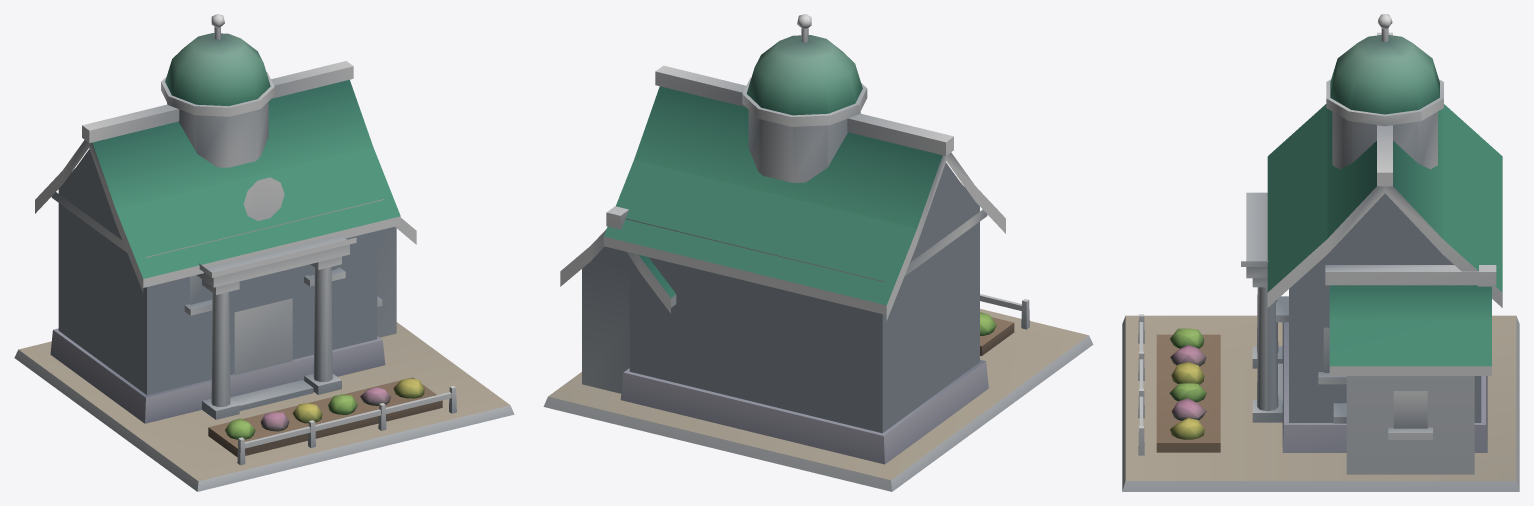
Rendered from hospital_t5.glb.
3 renders of one model, left to right at view 1: azimuth 30°, elevation 25°; view 2: azimuth 150°, elevation 25°; view 3: azimuth 270°, elevation 25°, orthographic. The views are drawn at different scales.
Visible parts, largest first — view 1: hospital_t5; view 2: hospital_t5; view 3: hospital_t5.
Part boxes in pixels (x1,y1,x2,y2): hospital_t5: [14, 14, 514, 491]; hospital_t5: [543, 14, 1093, 491]; hospital_t5: [1122, 14, 1519, 491].
Bounding box in the file's own units: 1.86 × 1.99 × 1.86.
